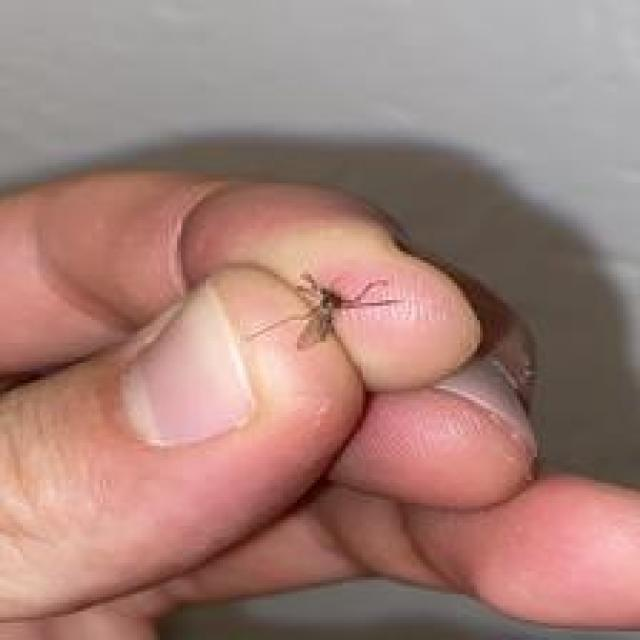Culex: (246, 272, 403, 352)
